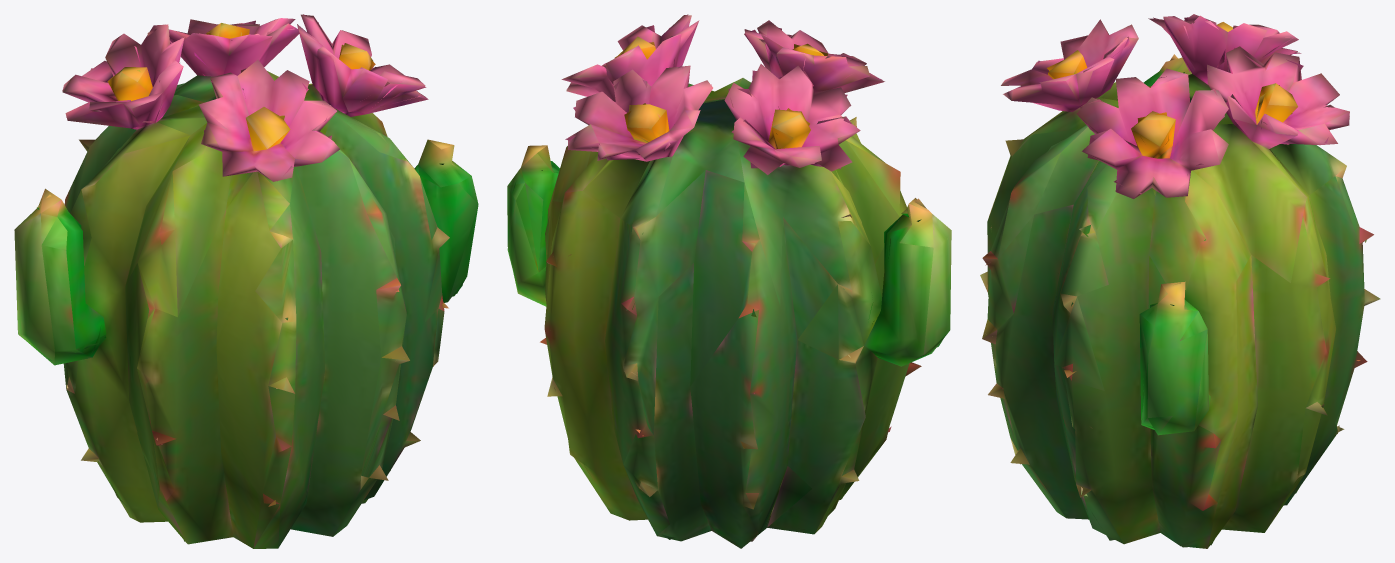
Rendered from lg-cactus-barrel.glb.
3 views of the same model, side by side, from view 1: azimuth 30°, elevation 25°; view 2: azimuth 150°, elevation 25°; view 3: azimuth 270°, elevation 25° (orthographic).
Visible parts, largest first — view 1: geometry_0; view 2: geometry_0; view 3: geometry_0.
Part boxes in pixels (x1=…): geometry_0: x1=14, y1=14, x2=478, y2=548; geometry_0: x1=507, y1=14, x2=951, y2=548; geometry_0: x1=980, y1=14, x2=1380, y2=548.
Bounding box in the file's own units: 0.994 × 1 × 0.7851.
1 material, 1 textured.
